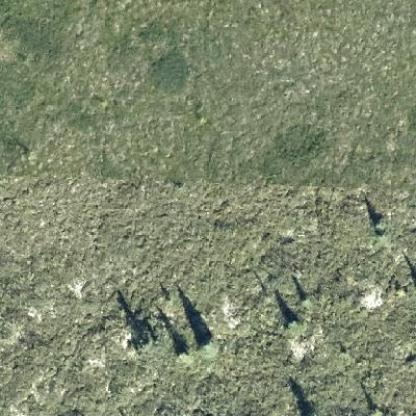tree-top: (129, 328, 157, 352), (194, 335, 218, 357), (172, 340, 192, 364), (369, 220, 390, 237), (282, 312, 300, 331)
